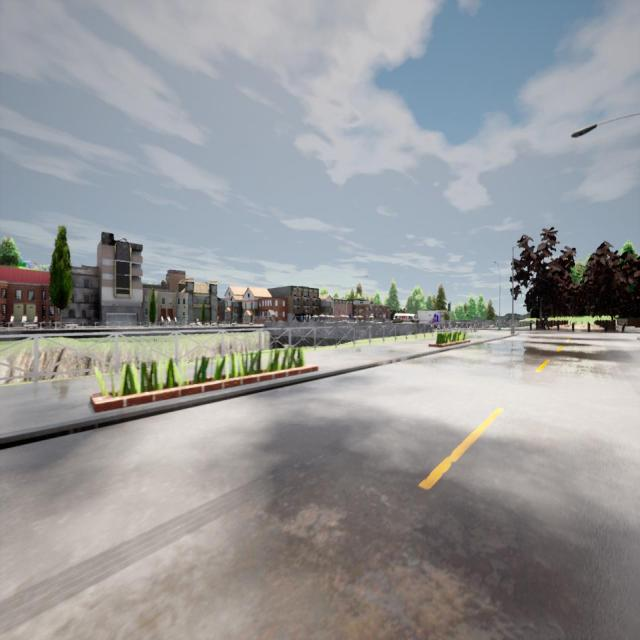Pedestrian: (542, 312, 550, 330)
Vehicle: (417, 310, 448, 323), (393, 313, 416, 323)
traffic_light: (448, 303, 450, 311)
